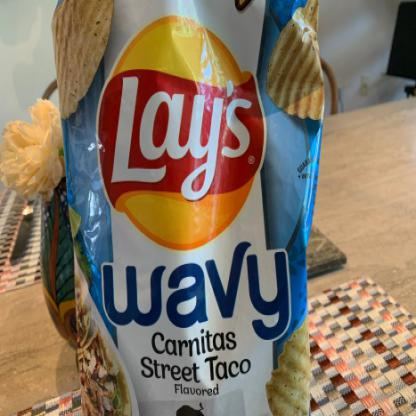potatochip: (48, 0, 331, 415)
